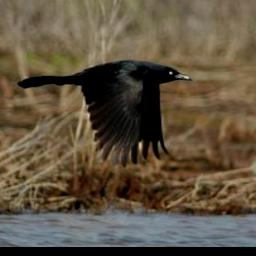Crow: (16, 58, 194, 167)
